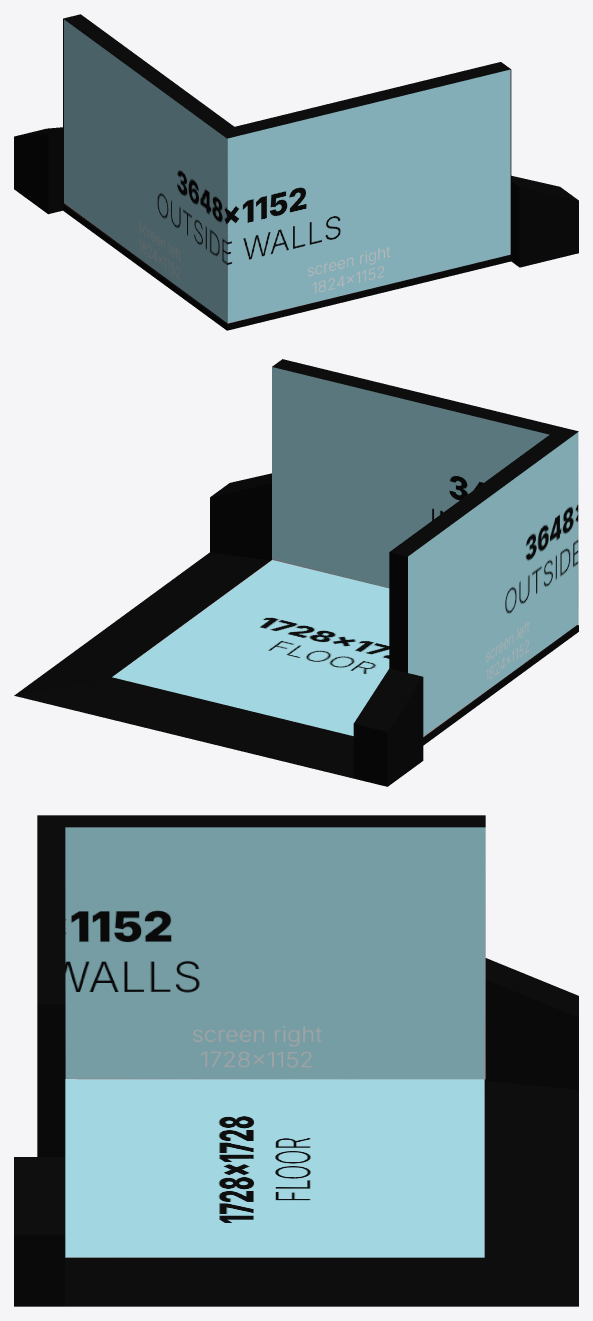
File: Portal_mapped.glb
The picture shows the model from 3 angles, top to bottom: view 1: azimuth 30°, elevation 25°; view 2: azimuth 150°, elevation 25°; view 3: azimuth 270°, elevation 25°; orthographic projection. The views are drawn at different scales.
Visible parts, largest first — view 1: Cube, Cube.001, PORTAL_STRUCTURE; view 2: PORTAL_STRUCTURE, Cube, Cube.001, Plane; view 3: Cube.001, PORTAL_STRUCTURE, Plane.
Boxes of the visible parts, x1=… form: Cube: x1=227, y1=69, x2=510, y2=323; Cube.001: x1=64, y1=19, x2=227, y2=322; PORTAL_STRUCTURE: x1=14, y1=14, x2=578, y2=330; PORTAL_STRUCTURE: x1=14, y1=359, x2=578, y2=786; Cube: x1=272, y1=367, x2=578, y2=624; Cube.001: x1=408, y1=432, x2=578, y2=736; Plane: x1=112, y1=560, x2=389, y2=735; Cube.001: x1=65, y1=827, x2=485, y2=1079; PORTAL_STRUCTURE: x1=14, y1=815, x2=578, y2=1306; Plane: x1=65, y1=1079, x2=484, y2=1257.
Bounding box in the file's own units: 6.05 × 3.1 × 6.05.
8 materials, 5 textured.
